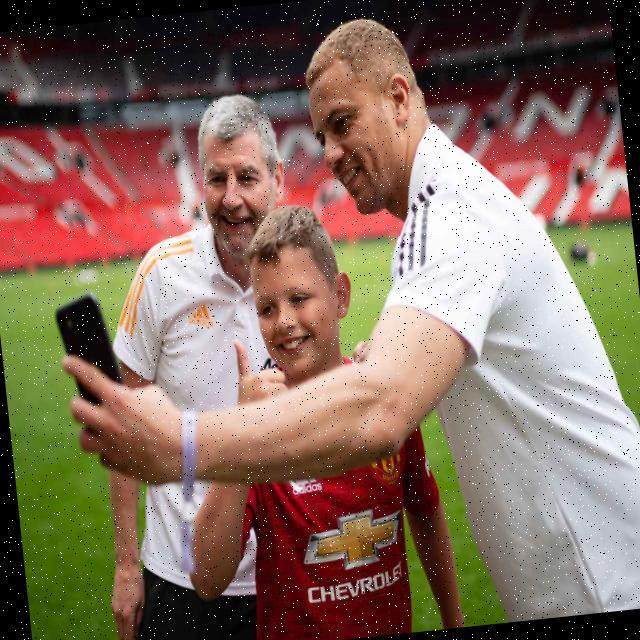Adidas: (181, 296, 217, 332)
Chevrolet: (298, 505, 409, 605)
